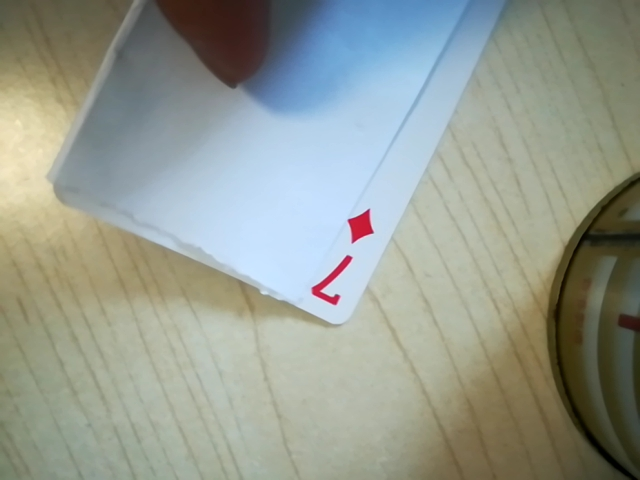fk 7: (303, 207, 376, 312)
